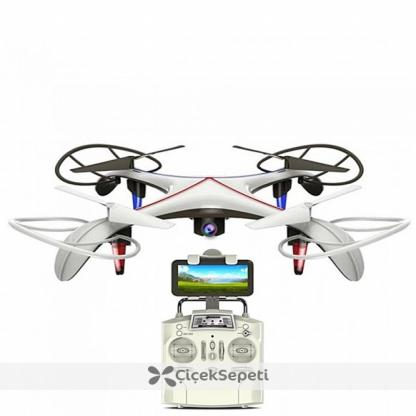drone: (7, 143, 413, 281)
